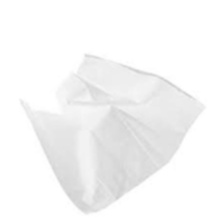tissue: (11, 48, 211, 220)
